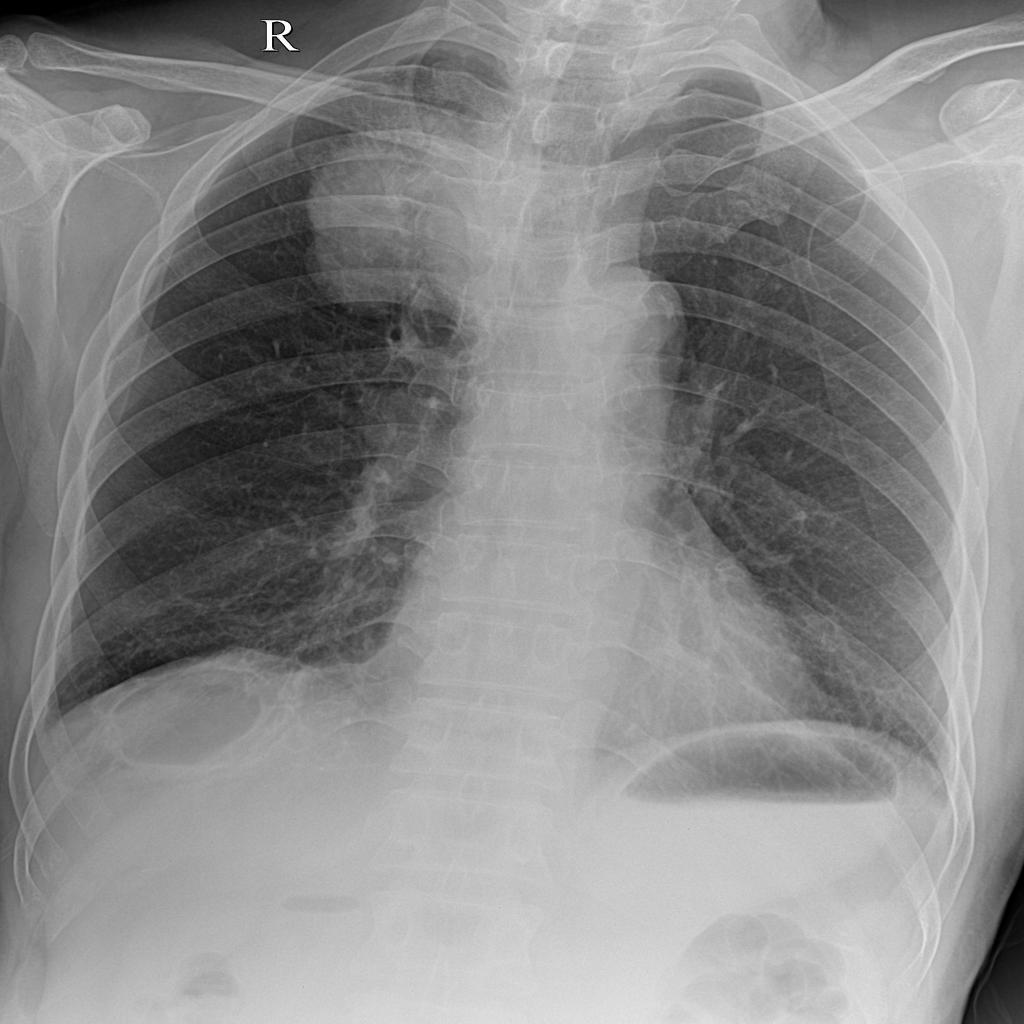Nodule: (280, 100, 545, 340)
